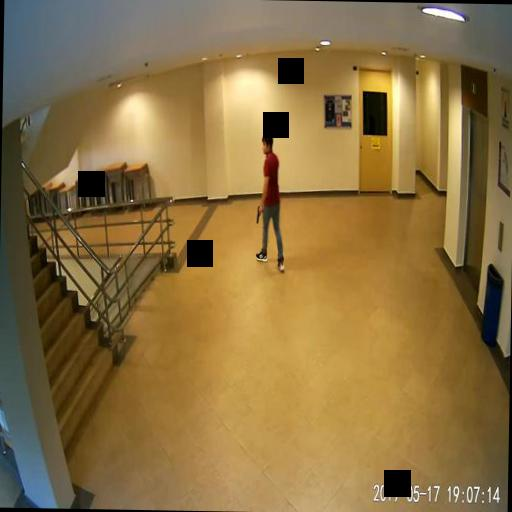Handgun: (256, 202, 262, 222)
